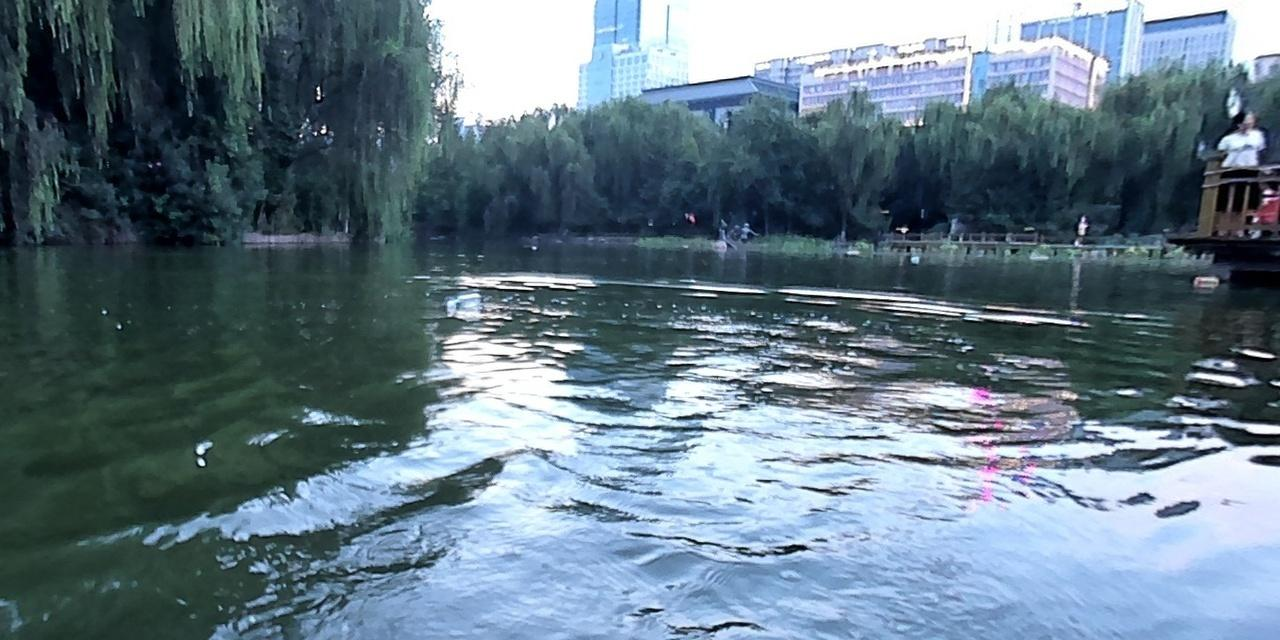bottle: (445, 290, 480, 312), (1192, 274, 1220, 287)
